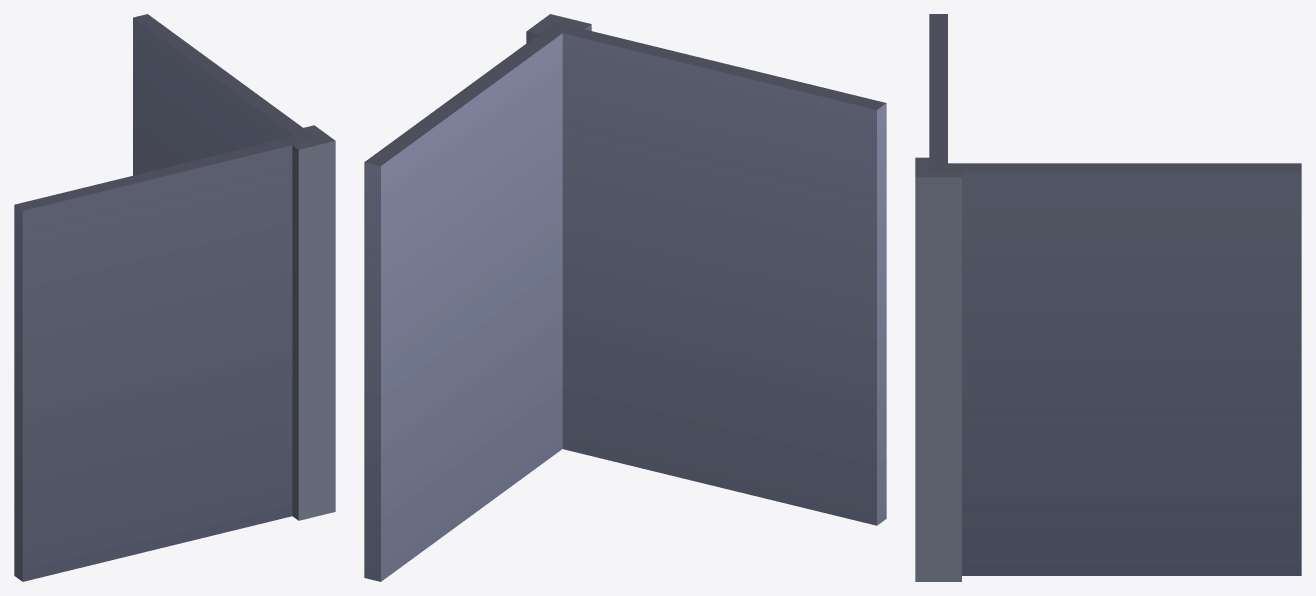
File: Wall Corner.glb
The picture shows the model from 3 angles, left to right: view 1: azimuth 30°, elevation 25°; view 2: azimuth 150°, elevation 25°; view 3: azimuth 270°, elevation 25°; orthographic projection. The views are drawn at different scales.
Parts seen in each view (by area): view 1: wall-corner-column; view 2: wall-corner-column; view 3: wall-corner-column.
Boxes of the visible parts, bbox=[...] form: wall-corner-column: bbox=[14, 14, 335, 581]; wall-corner-column: bbox=[364, 14, 886, 581]; wall-corner-column: bbox=[915, 14, 1301, 581].
Size of the model in its own units: 2.07 by 2.4 by 2.08.
Materials: 1 (1 with a texture image).
